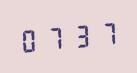seven: (43, 22, 67, 53), (93, 17, 117, 48)
three: (68, 20, 92, 50)
zero: (18, 24, 42, 55)
